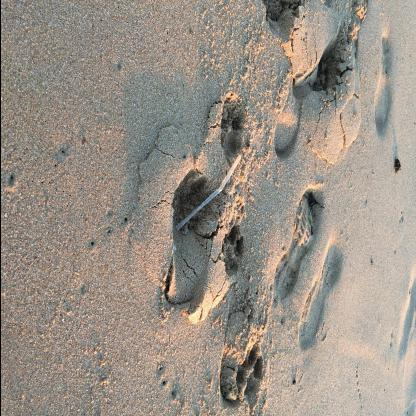plastik: (175, 155, 243, 232)
